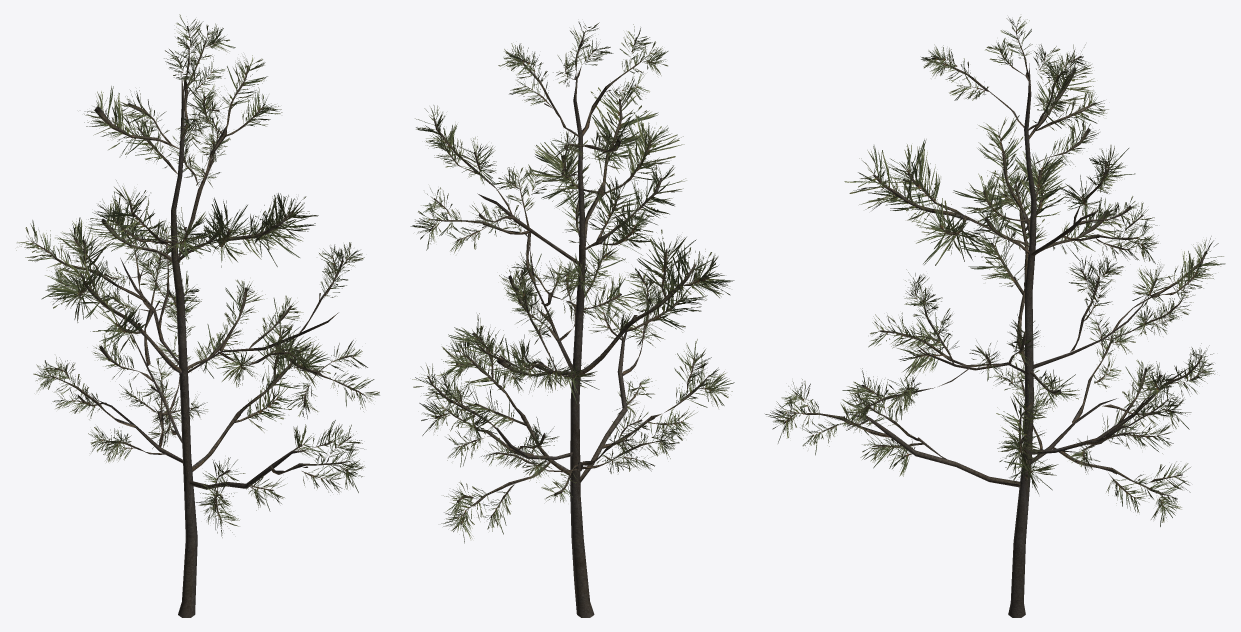
File: pine.glb
3 renders of one model, left to right at view 1: azimuth 30°, elevation 25°; view 2: azimuth 150°, elevation 25°; view 3: azimuth 270°, elevation 25°, orthographic. The views are drawn at different scales.
Parts seen in each view (by area): view 1: pine_sapling_small_b; view 2: pine_sapling_small_b; view 3: pine_sapling_small_b.
Part boxes in pixels (x1,y1,x2,y2): pine_sapling_small_b: [16, 14, 379, 617]; pine_sapling_small_b: [410, 21, 734, 617]; pine_sapling_small_b: [765, 16, 1225, 617].
Bounding box in the file's own units: 0.5287 × 1.05 × 0.7304.
2 materials, 2 textured.
